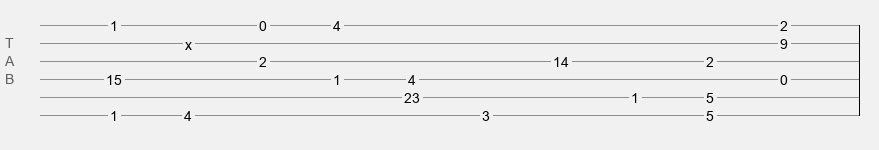0: (259, 18, 267, 28), (780, 72, 788, 82)
1: (110, 108, 118, 118), (110, 18, 118, 28), (333, 72, 341, 82), (631, 90, 639, 100)
14: (553, 54, 569, 64)
15: (106, 72, 122, 82)
2: (259, 54, 267, 64), (706, 54, 714, 64), (780, 18, 788, 28)
23: (404, 90, 420, 100)
3: (482, 108, 490, 118)
4: (184, 108, 192, 118), (333, 18, 341, 28), (408, 72, 416, 82)
5: (706, 108, 714, 118), (706, 90, 714, 100)
9: (780, 36, 788, 46)
x: (185, 37, 192, 45)
